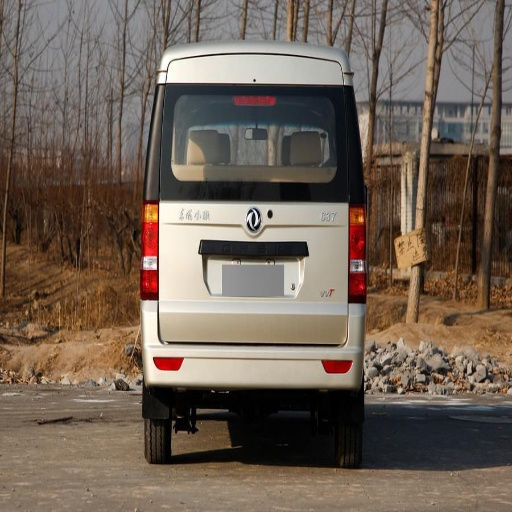back_bumper: (138, 301, 353, 392)
tailgate: (156, 160, 347, 294)
trunk: (163, 194, 349, 343)
